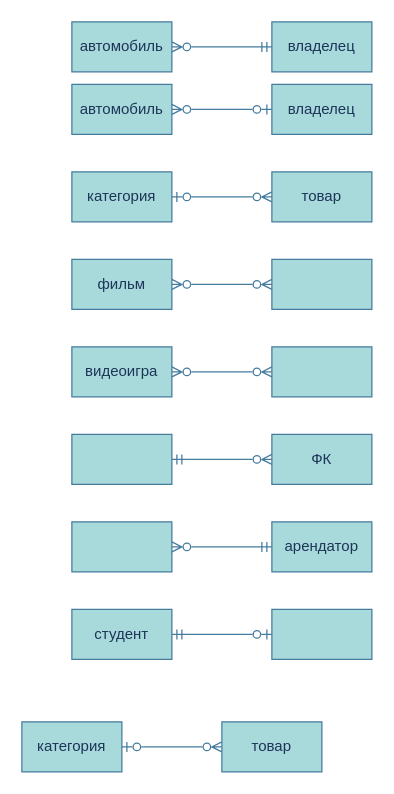
This 394x794 diagram has some shape labels left out. The shapes that lost their labels are listed below. From the top down, each one's box as (x1, y1, x2, y2) in pixels, then its label:
(271, 258, 372, 309): актёр
(271, 346, 372, 397): игрок
(71, 433, 172, 484): директор ФК
(71, 521, 172, 572): помещение
(271, 608, 372, 659): студ билет
